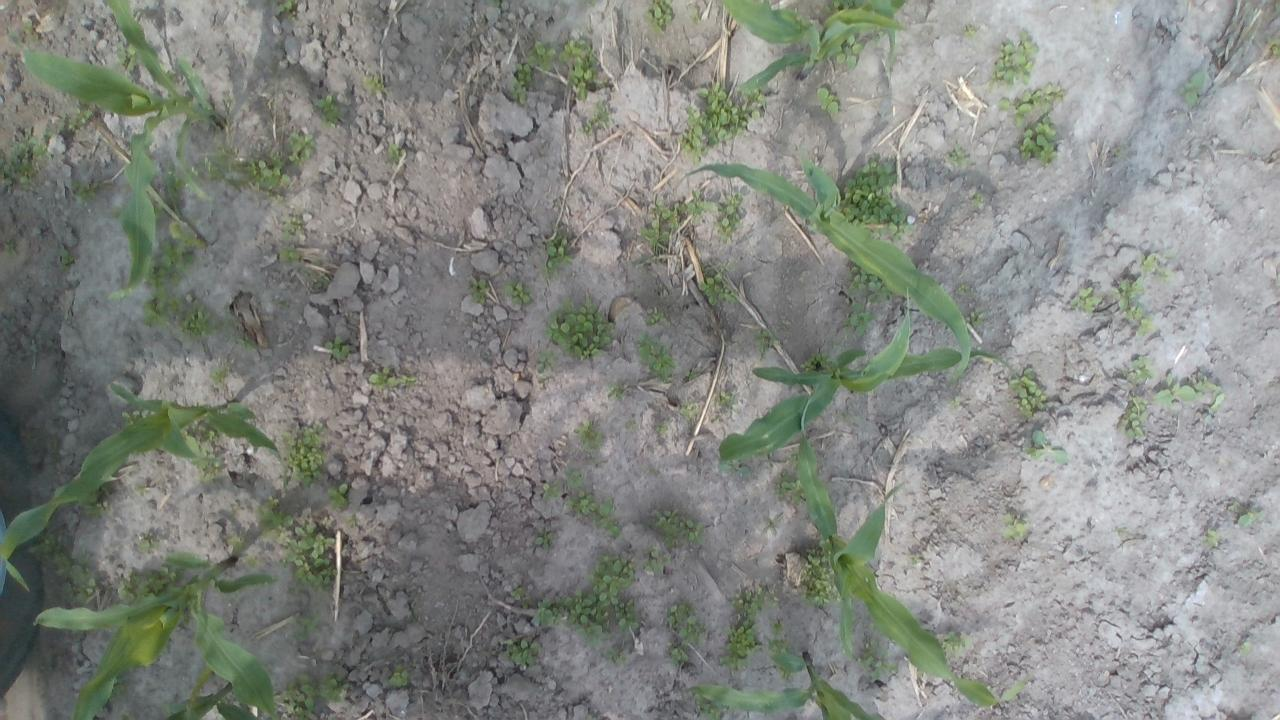Maize: (797, 398, 1024, 706), (0, 0, 226, 303), (676, 154, 971, 384), (0, 377, 290, 588), (718, 288, 1020, 464), (32, 553, 282, 720), (718, 0, 905, 92), (674, 653, 891, 720), (142, 679, 272, 720)
Weeds: (836, 154, 914, 243), (680, 83, 750, 163), (546, 293, 614, 362), (532, 590, 611, 648), (282, 522, 342, 590), (144, 221, 203, 286), (0, 126, 51, 192), (278, 422, 328, 486), (797, 546, 841, 611), (646, 505, 707, 550), (560, 36, 602, 100), (114, 567, 182, 605), (52, 554, 101, 604), (714, 618, 761, 670), (988, 30, 1030, 86), (194, 146, 243, 192), (1019, 114, 1064, 164), (634, 334, 679, 384), (639, 200, 679, 256), (254, 494, 294, 546), (842, 262, 892, 303), (276, 675, 320, 720), (243, 151, 290, 192), (588, 554, 636, 594), (728, 583, 781, 619), (661, 602, 706, 644), (699, 262, 740, 308), (856, 638, 900, 680), (136, 288, 180, 329), (176, 298, 216, 342), (1008, 368, 1047, 412), (1022, 428, 1068, 463), (541, 232, 575, 279), (996, 89, 1036, 127), (771, 468, 807, 510), (1152, 372, 1196, 406), (1192, 369, 1224, 413), (56, 102, 94, 138), (608, 594, 642, 634), (1118, 397, 1150, 439), (77, 481, 111, 520), (840, 300, 876, 336), (642, 0, 675, 39), (716, 196, 744, 240), (592, 497, 622, 538), (1136, 250, 1174, 282), (1110, 276, 1145, 310), (180, 423, 217, 455), (502, 637, 540, 668), (678, 190, 716, 219), (526, 40, 558, 74), (578, 102, 610, 136), (1124, 306, 1158, 338), (751, 325, 782, 359), (316, 90, 344, 127), (318, 671, 349, 704), (463, 272, 492, 307), (1068, 286, 1104, 314), (500, 277, 532, 308), (836, 34, 865, 68), (506, 61, 530, 102), (112, 39, 140, 74), (290, 611, 318, 644), (1179, 70, 1204, 106), (1032, 80, 1063, 109), (29, 533, 61, 561), (192, 452, 220, 484), (1121, 356, 1154, 383), (940, 630, 974, 656), (1000, 511, 1030, 540), (640, 548, 671, 576), (564, 491, 596, 518), (66, 175, 99, 201), (574, 419, 600, 452), (368, 366, 398, 394), (289, 132, 315, 164), (744, 87, 767, 120), (814, 85, 839, 115), (716, 456, 751, 477), (694, 695, 723, 720), (324, 336, 354, 360), (278, 215, 304, 240), (120, 406, 154, 425), (800, 352, 831, 372), (327, 481, 348, 510), (107, 674, 127, 702), (213, 310, 236, 334), (510, 581, 530, 608), (1236, 510, 1266, 528), (388, 664, 410, 688), (277, 243, 303, 263), (534, 348, 554, 374), (534, 525, 556, 548), (362, 72, 384, 94), (678, 400, 702, 420), (865, 23, 887, 44), (208, 364, 230, 385), (605, 646, 628, 666), (563, 466, 583, 489), (21, 18, 40, 42), (764, 637, 792, 653), (824, 0, 864, 11), (382, 142, 402, 164), (138, 535, 162, 553), (604, 379, 624, 399), (227, 533, 245, 555), (966, 306, 986, 325), (540, 483, 560, 502), (1204, 528, 1224, 547), (58, 247, 74, 270), (760, 514, 780, 532), (836, 408, 860, 423), (272, 0, 296, 15), (398, 372, 420, 388), (968, 188, 984, 208), (682, 368, 702, 384), (1265, 35, 1280, 56), (950, 147, 966, 166), (716, 389, 732, 408), (644, 312, 669, 324), (230, 338, 253, 351), (3, 237, 18, 256), (152, 202, 165, 222), (180, 610, 193, 629), (688, 5, 701, 24), (174, 170, 186, 190), (114, 709, 135, 720), (313, 272, 329, 286), (785, 452, 799, 468), (963, 24, 977, 38), (655, 421, 669, 435), (868, 619, 880, 635), (110, 206, 124, 219), (246, 554, 260, 566), (1240, 642, 1252, 656), (955, 282, 970, 293), (776, 668, 792, 678), (909, 554, 922, 566), (768, 619, 782, 630), (488, 0, 506, 8), (134, 484, 146, 496), (625, 420, 637, 432), (950, 396, 961, 408), (276, 301, 290, 310), (1113, 148, 1125, 158), (586, 0, 598, 6), (780, 314, 789, 322), (1275, 0, 1280, 13), (348, 516, 355, 524), (586, 714, 594, 720), (985, 684, 991, 691)
